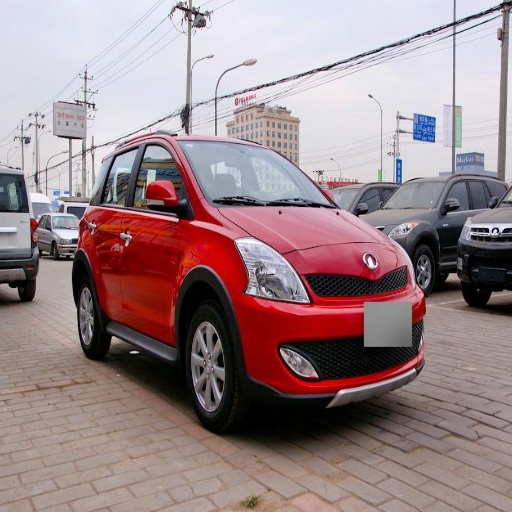front_bumper: (237, 260, 424, 404)
front_right_door: (124, 138, 190, 338)
front_right_light: (240, 241, 310, 304)
